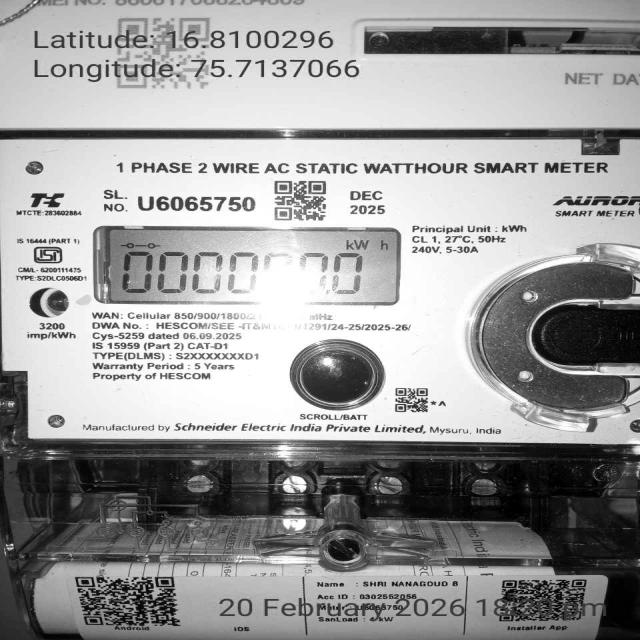meter: (0, 2, 640, 444)
